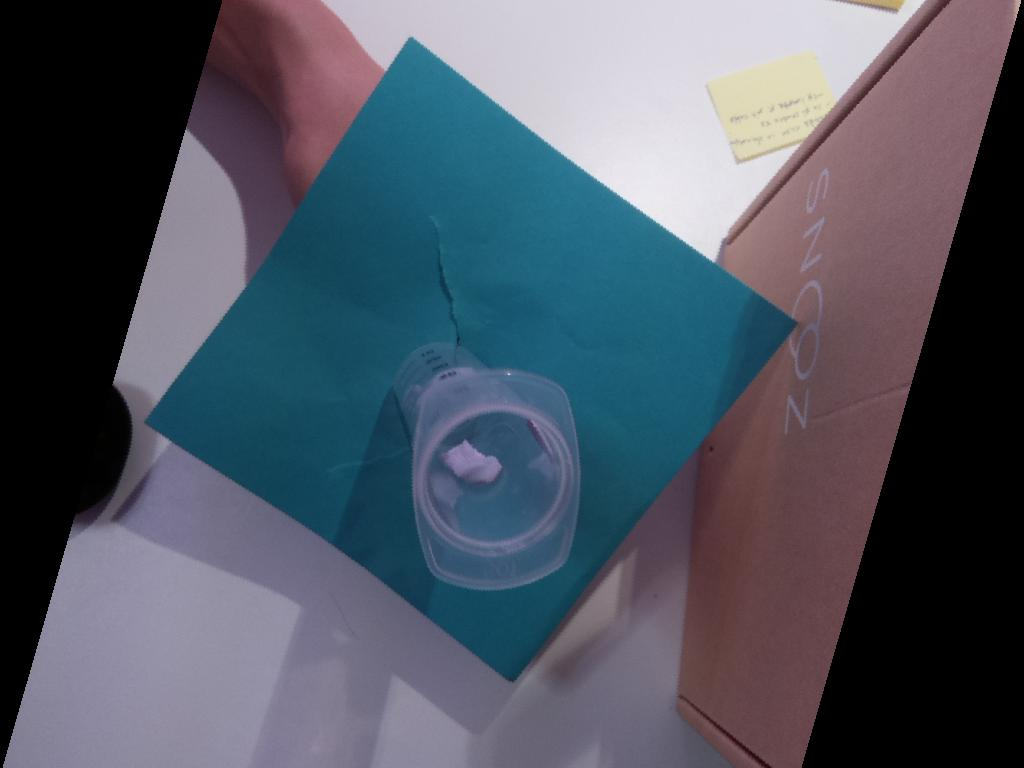dirty: (410, 370, 580, 590)
